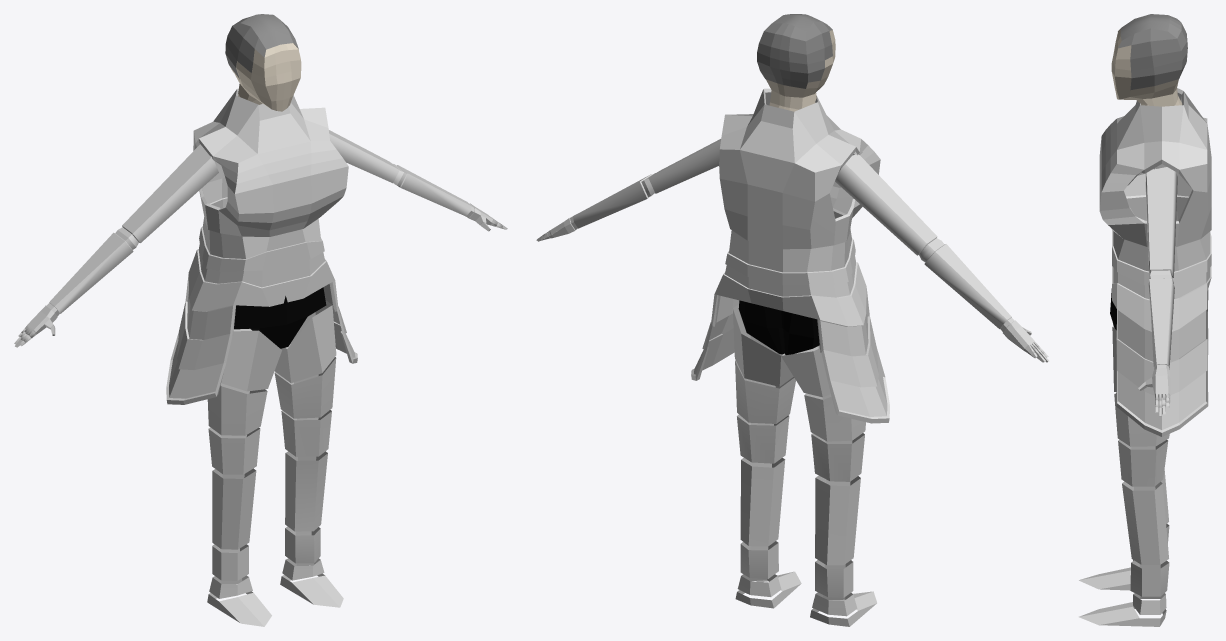
File: Soldier5.fbx
3 views of the same model, side by side, from view 1: azimuth 30°, elevation 25°; view 2: azimuth 150°, elevation 25°; view 3: azimuth 270°, elevation 25° (orthographic). The views are drawn at different scales.
Visible parts, largest first — view 1: Peitoral.001, Perneiras.001, Braço Dir.001, Body, Braço Esq.001, Cintura; view 2: Peitoral.001, Perneiras.001, Braço Dir.001, Body, Braço Esq.001, Cintura; view 3: Peitoral.001, Perneiras.001, Braço Esq.001, Body.
Boxes of the visible parts, x1,y1,x2,y2 form: Peitoral.001: [166, 88, 357, 404]; Perneiras.001: [207, 300, 343, 626]; Braço Dir.001: [14, 144, 218, 347]; Body: [225, 14, 301, 111]; Braço Esq.001: [329, 130, 507, 231]; Cintura: [234, 287, 326, 348]; Peitoral.001: [691, 88, 889, 423]; Perneiras.001: [733, 304, 876, 626]; Braço Dir.001: [835, 154, 1049, 362]; Body: [757, 14, 835, 111]; Braço Esq.001: [536, 139, 720, 241]; Cintura: [738, 300, 819, 354]; Peitoral.001: [1099, 88, 1211, 436]; Perneiras.001: [1079, 324, 1169, 626]; Braço Esq.001: [1138, 167, 1177, 416]; Body: [1111, 14, 1187, 106].
Size of the model in its own units: 66.45 by 73.86 by 15.37.
